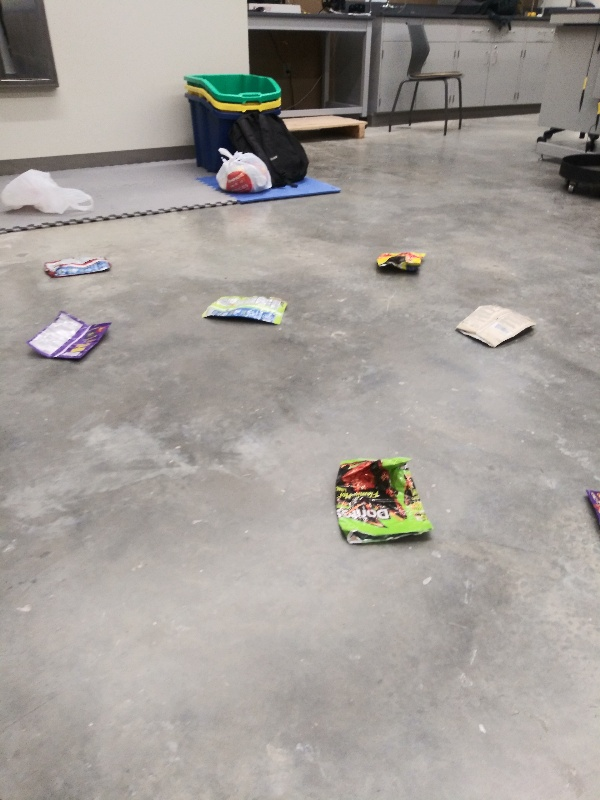bag: (334, 453, 437, 547), (20, 306, 115, 363), (448, 300, 542, 349), (199, 292, 291, 325), (43, 251, 114, 279), (373, 244, 429, 277), (583, 487, 600, 530)
